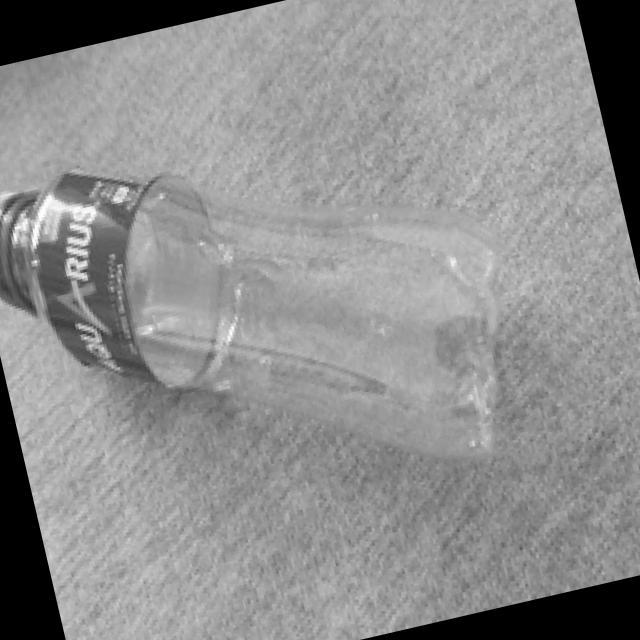good: (0, 64, 542, 560)
